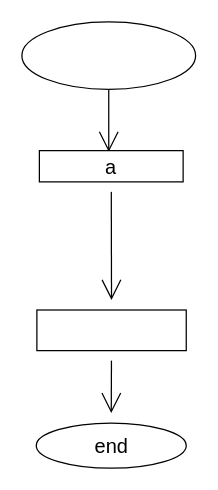
Image size: 218x490. Some labels were removed from this diagram. The box of each missing label's shape, as (x1, y1, x2, y2) in pixels:
a * a: (36, 309, 186, 351)
start: (21, 21, 196, 89)
